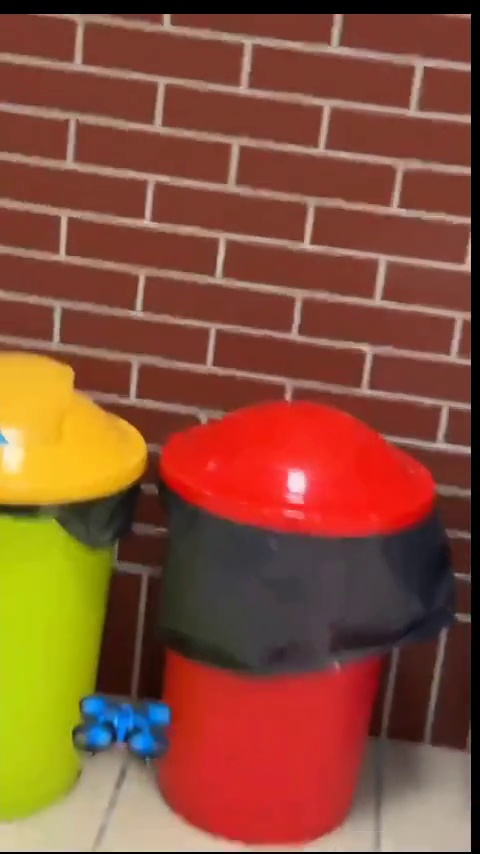drone: (71, 692, 177, 754)
